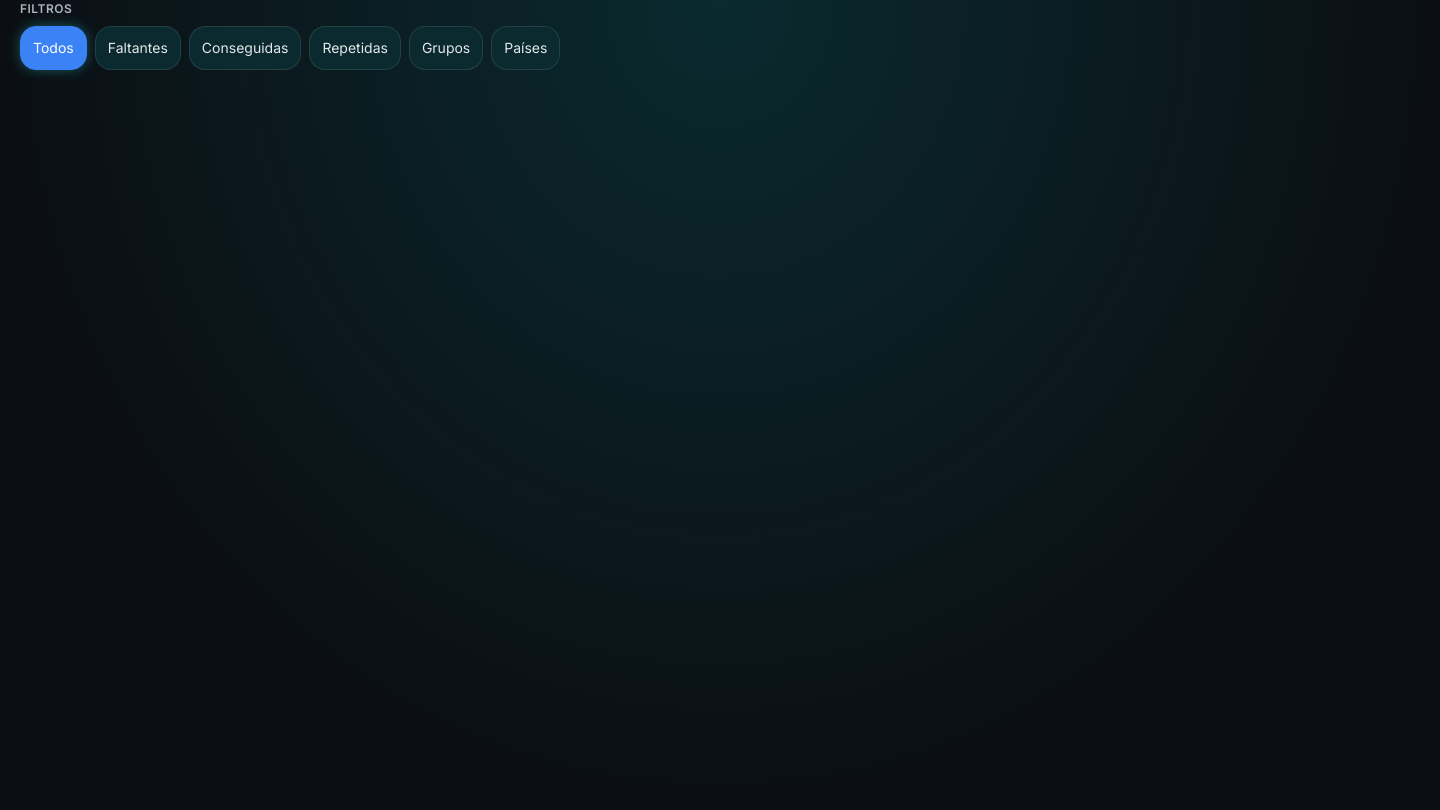
Test: FilterBar › opens the Países sheet from the Países chip
Click the button "Países" at (526, 48), box [491,26,560,70]
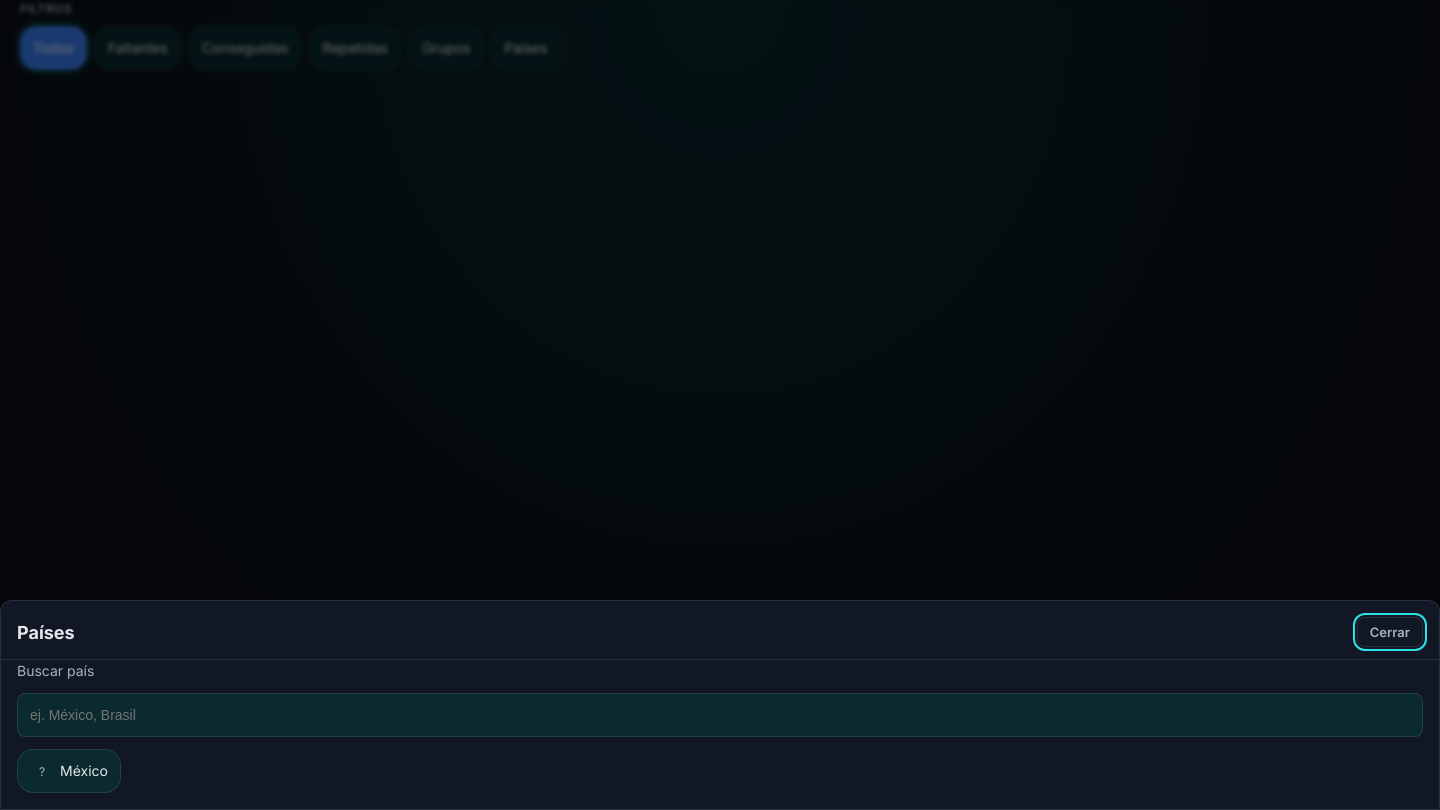
Now the dialog "Países" is shown, box [0,600,1439,809]
Now the search field labelled "Buscar país" is shown, box [17,693,1423,737]
